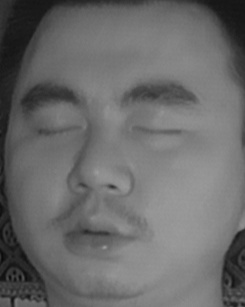blink: (129, 109, 184, 147), (32, 111, 85, 147)
mouth: (49, 202, 139, 263)
